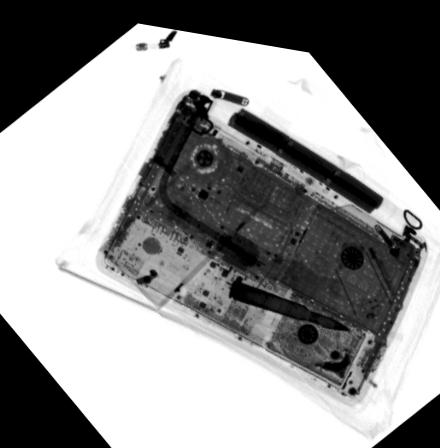Bullet: (227, 269, 352, 318)
